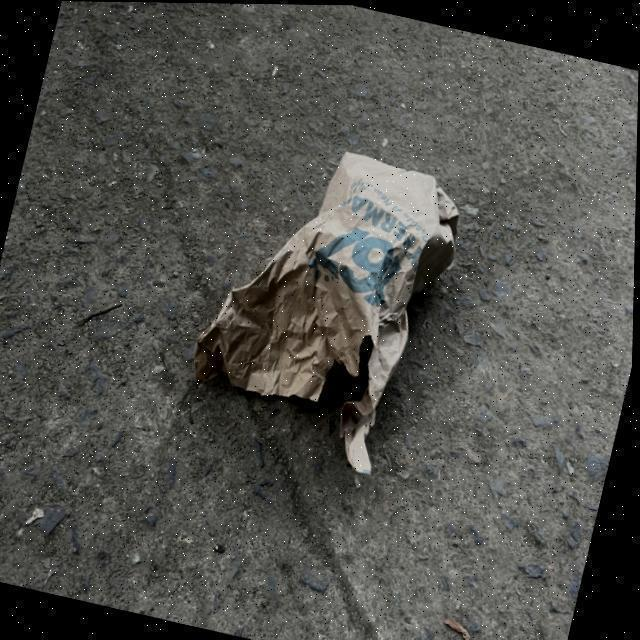Paper_Bag: (176, 123, 475, 487)
